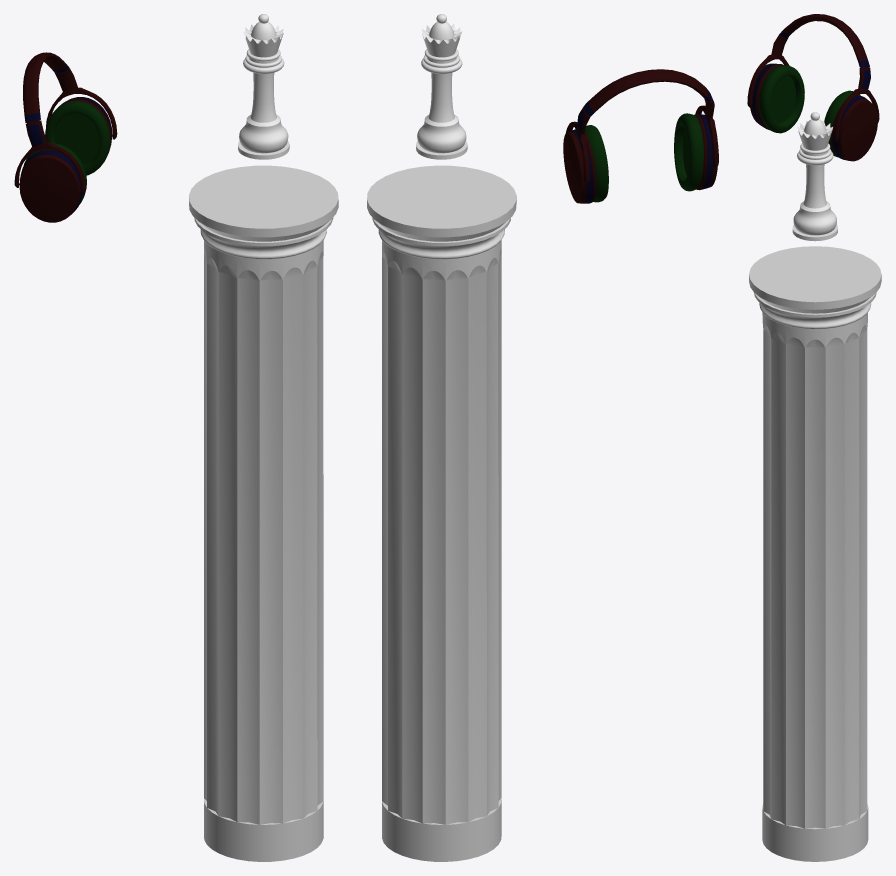
File: display.glb
3 renders of one model, left to right at view 1: azimuth 30°, elevation 25°; view 2: azimuth 150°, elevation 25°; view 3: azimuth 270°, elevation 25°, orthographic. The views are drawn at different scales.
Visible parts, largest first — view 1: Column, HeadSet, Queen; view 2: Column, HeadSet, Queen; view 3: Column, HeadSet, Queen.
Part boxes in pixels (x1,y1,x2,y2): Column: (189,165,338,861); HeadSet: (14,52,117,222); Queen: (238,14,289,159); Column: (367,165,516,861); HeadSet: (563,69,718,203); Queen: (416,14,467,159); Column: (749,246,881,861); HeadSet: (747,14,879,161); Queen: (792,112,837,241).
Bounding box in the file's own units: 10.65 × 25.61 × 4.27.
